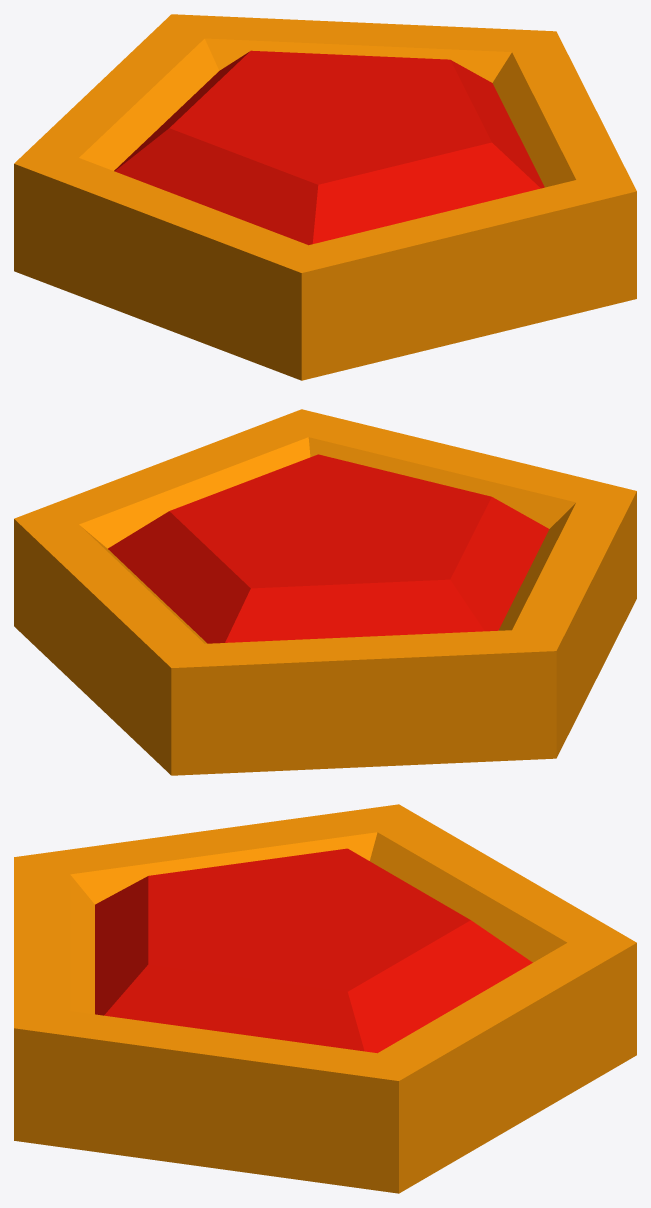
The picture shows the model from 3 angles, top to bottom: view 1: azimuth 30°, elevation 25°; view 2: azimuth 150°, elevation 25°; view 3: azimuth 270°, elevation 25°; orthographic projection. The views are drawn at different scales.
Parts seen in each view (by area): view 1: Cylinder; view 2: Cylinder; view 3: Cylinder.
Part boxes in pixels (<box>): Cylinder: <box>14,14,636,380</box>; Cylinder: <box>14,409,636,775</box>; Cylinder: <box>14,804,636,1193</box>.
Bounding box in the file's own units: 190 × 43.28 × 181.
